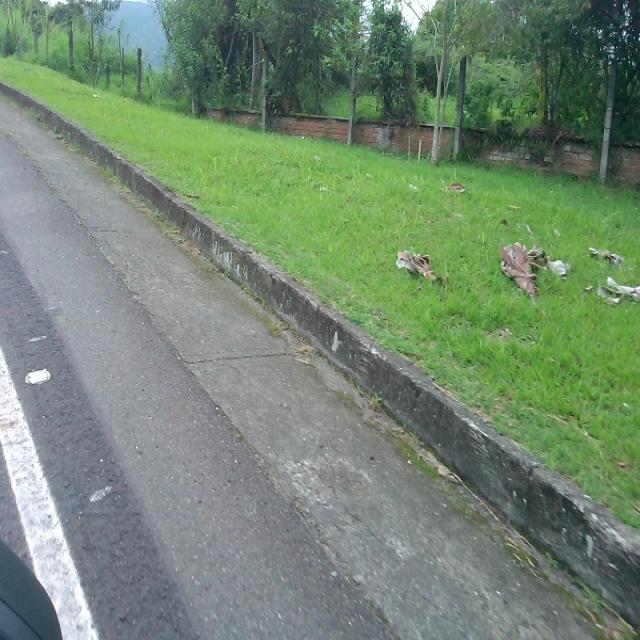DITCH: (1, 71, 638, 638), (1, 81, 638, 638)
